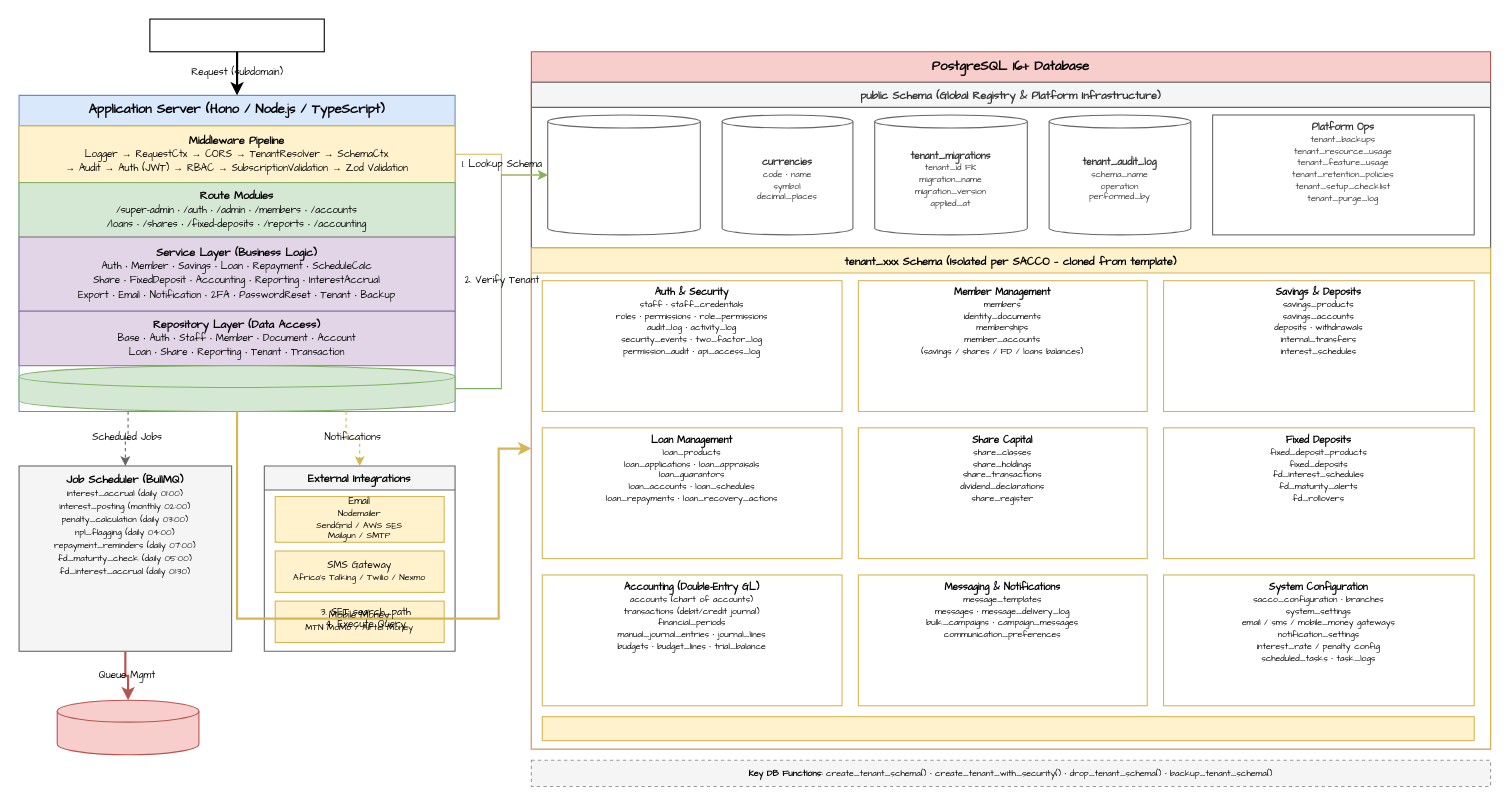
The diagram is 1510 pixels wide and 806 high, and some of its shapes have lost their labels. Each missing label, with the centre of its shape:
+ reconciliation_audit • unmatched_reconciliation_items • data_export_log: (1007,728)
Client / Browser: (236,35)
Kysely ORM & PG Connection Pool: (236,388)
Redis (IORedis): (127,727)
tenants subdomain schema_name subscription_tier status • branding: (623,174)
